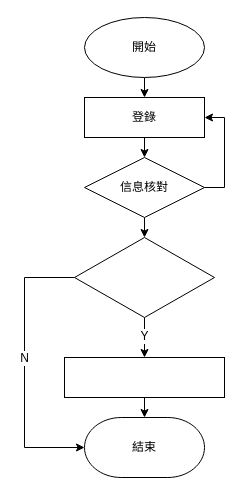
This 250x495 diagram has some shape labels left out. Each missing label, with the box of its shape:
是否管理員: (74, 236, 214, 318)
查看、添加、刪除、修改等: (64, 356, 224, 398)
